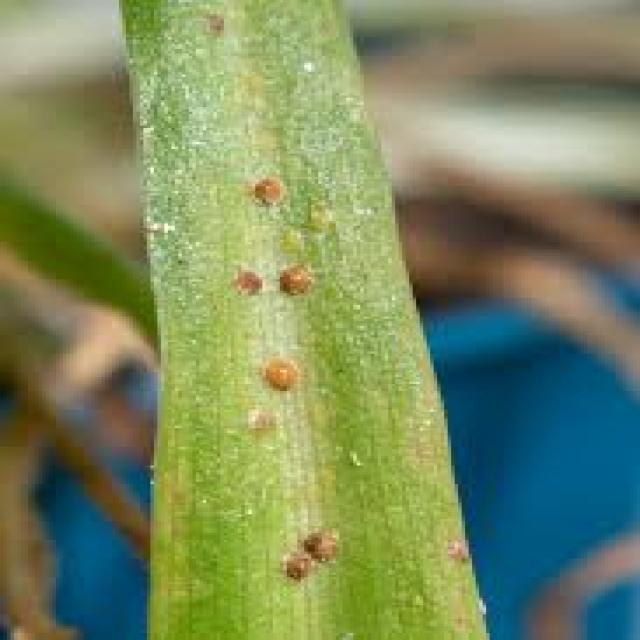scale_insect: (287, 519, 350, 563), (262, 256, 318, 298), (252, 352, 304, 394), (270, 544, 318, 582), (224, 261, 273, 298), (242, 170, 290, 207)
